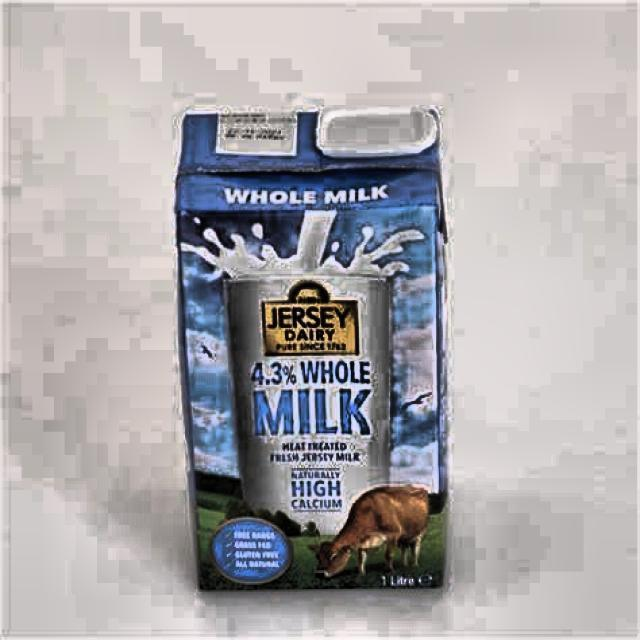cardboard: (172, 105, 450, 592)
